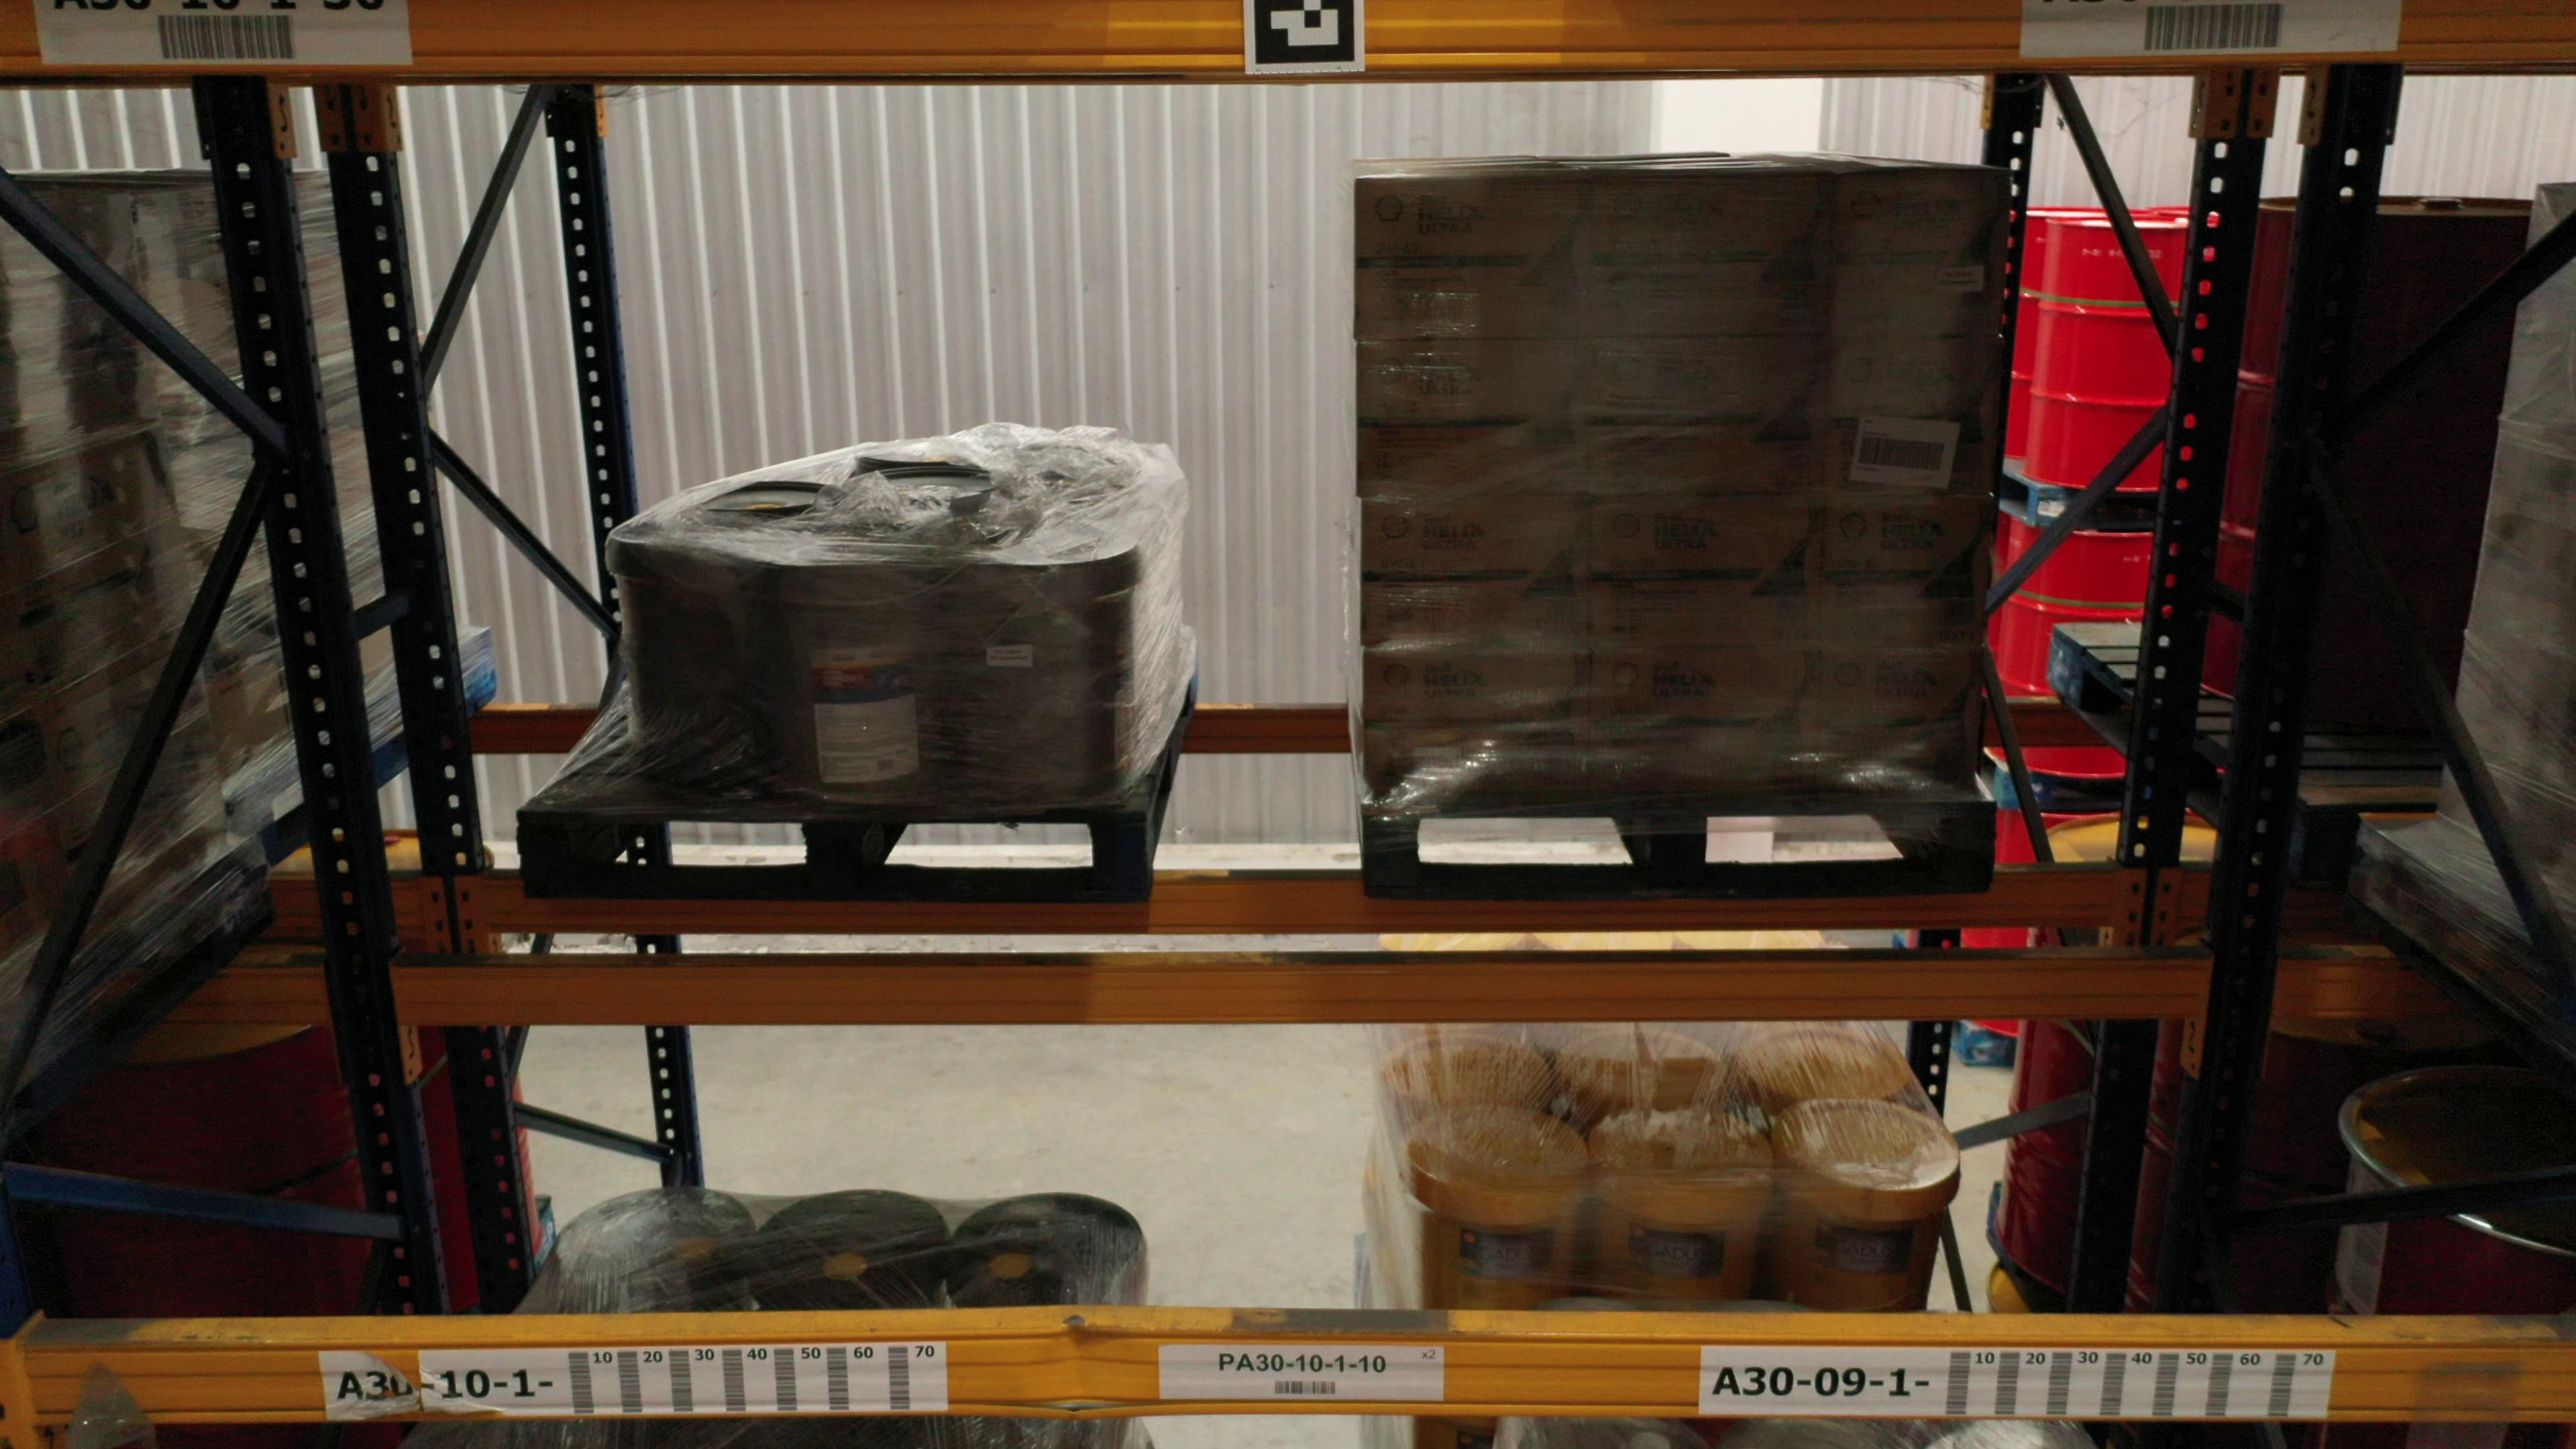box: (778, 552, 966, 807), (966, 550, 1145, 809), (605, 536, 778, 800), (1596, 170, 1838, 341), (1353, 172, 1598, 341), (1591, 334, 1831, 499), (1357, 341, 1594, 504), (1591, 499, 1828, 651), (1364, 648, 1594, 803), (1362, 501, 1591, 651), (1589, 648, 1819, 793), (1835, 170, 2008, 334), (1828, 333, 1999, 495), (1826, 492, 1994, 653), (1819, 648, 1982, 794)
